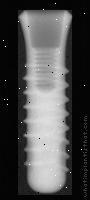Keystone Dental: (18, 10, 72, 195)
